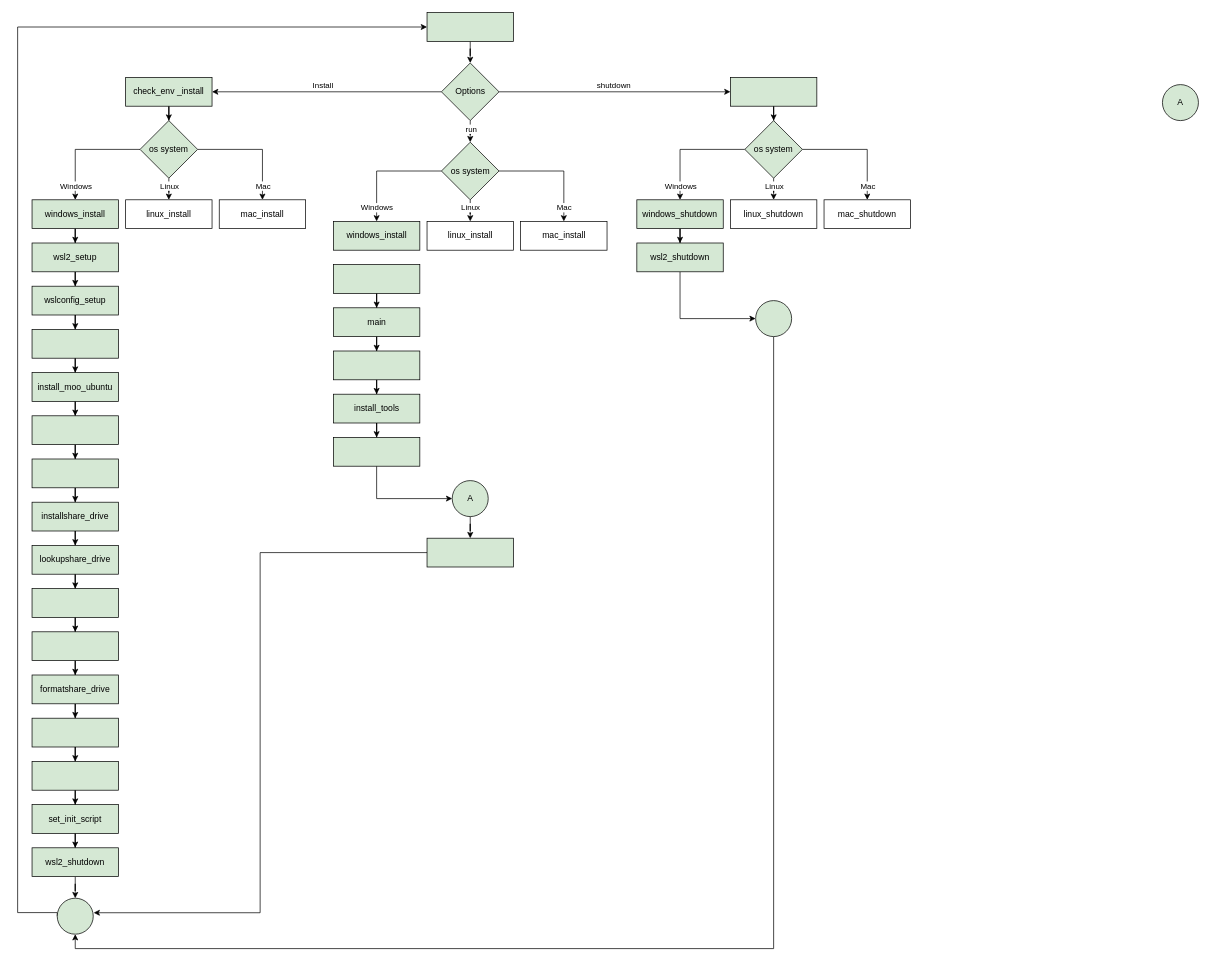
This 1211x967 diagram has some shape labels left out. Here are the shapes that lost their labels. From the top down, the centre of each, then its label:
At pixel 469 26: "main_menu".
At pixel 773 91: "check_env _shutdown".
At pixel 376 278: "check_env _run".
At pixel 74 343: "moo_ubuntu_setup".
At pixel 376 365: "verify_if_system_ is_ready".
At pixel 74 430: "user_s etup".
At pixel 376 451: "generate_docker_ state_volumes".
At pixel 74 473: "network_setup".
At pixel 469 552: "dev_menu".
At pixel 74 602: "attachshare_drive".
At pixel 74 646: "partitionshare_drive".
At pixel 74 732: "mountshare_drive".
At pixel 74 775: "installing_scripts".
